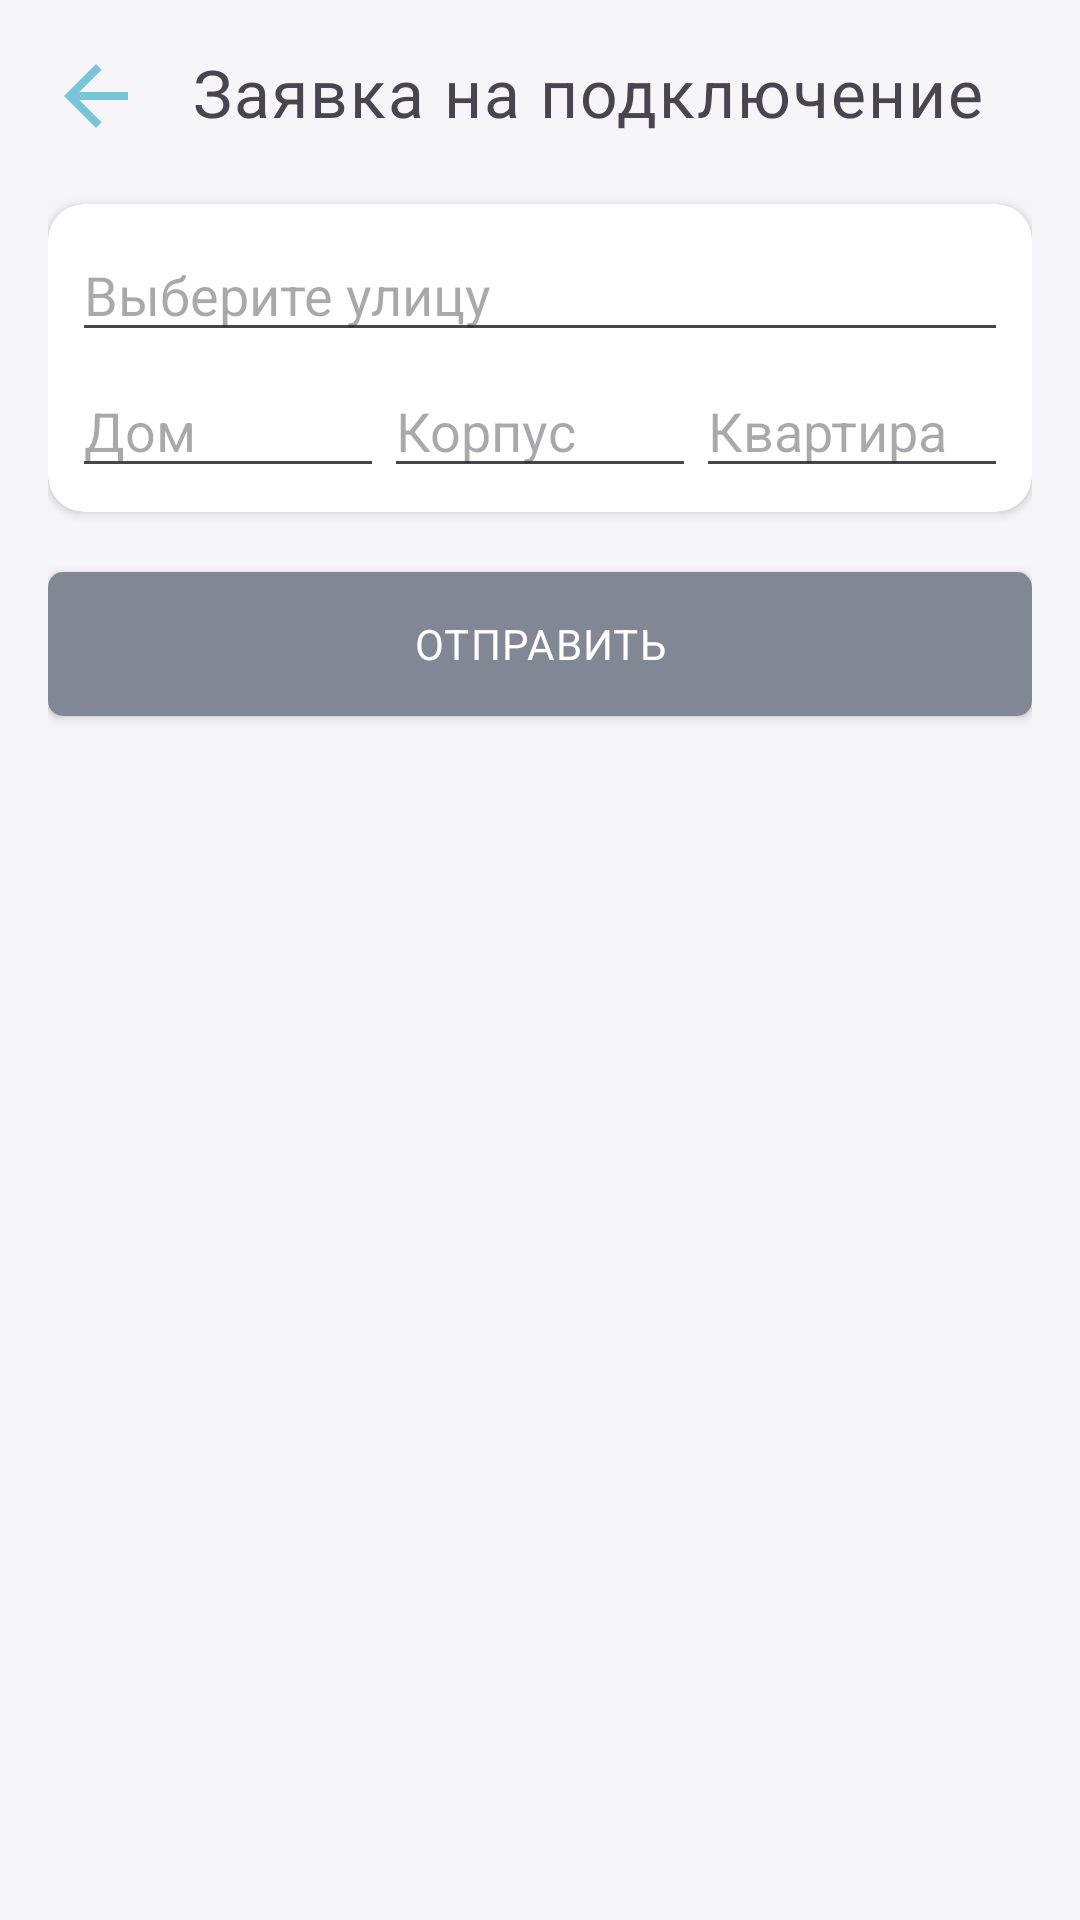

Screen size 1080*1920. Icon name, then its box in pixels as (x1, y1, x2, y2):
arrow back: (64, 64, 128, 128)
